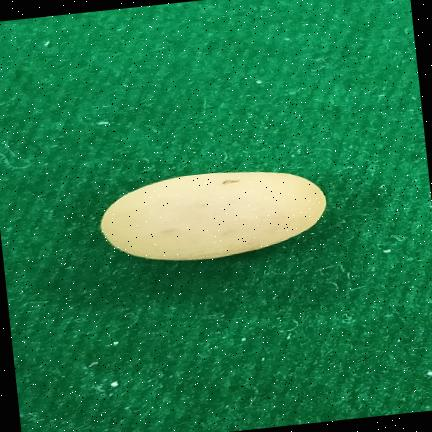parchment: (101, 172, 326, 260)
